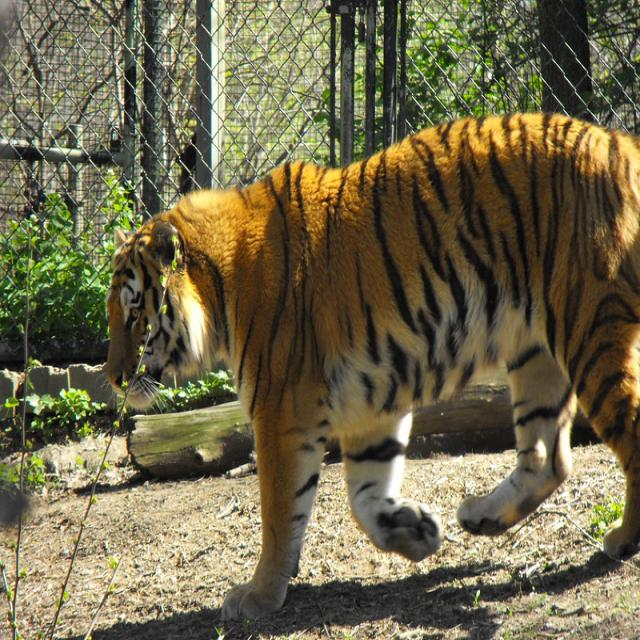Tiger: (101, 109, 639, 621)
